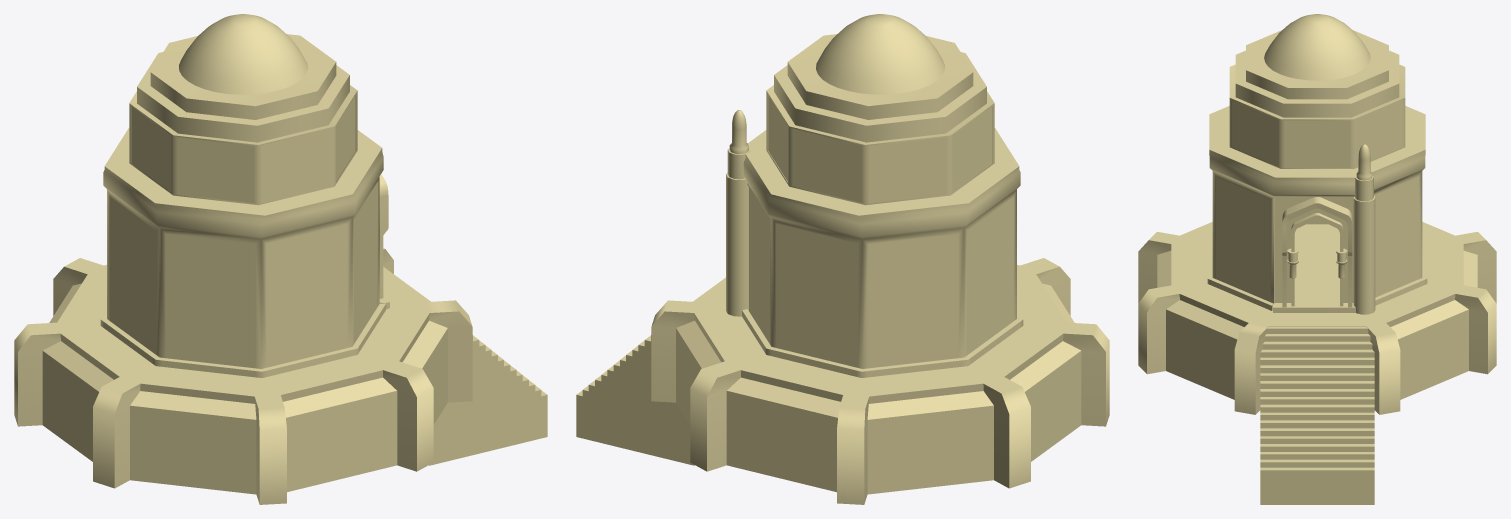
Rendered from Temple_Left_Low.fbx.
The picture shows the model from 3 angles, left to right: view 1: azimuth 30°, elevation 25°; view 2: azimuth 150°, elevation 25°; view 3: azimuth 270°, elevation 25°; orthographic projection. The views are drawn at different scales.
Parts seen in each view (by area): view 1: Temple_Left_Low, Base_Temple_Right_Low, Stairs_Left_Low, Door_Big_Low; view 2: Temple_Left_Low, Base_Temple_Right_Low, Stairs_Left_Low, Column_Temple_Left_Low; view 3: Temple_Left_Low, Base_Temple_Right_Low, Stairs_Left_Low, Door_Low, Column_Temple_Left_Low, Door_Big_Low, Door_small_Low.
Boxes of the visible parts, x1,y1,x2,y2 form: Temple_Left_Low: (100, 14, 386, 377); Base_Temple_Right_Low: (14, 248, 472, 504); Stairs_Left_Low: (383, 267, 547, 465); Door_Big_Low: (379, 174, 388, 298); Temple_Left_Low: (742, 14, 1023, 377); Base_Temple_Right_Low: (651, 258, 1109, 504); Stairs_Left_Low: (576, 277, 725, 465); Column_Temple_Left_Low: (726, 110, 750, 316); Temple_Left_Low: (1207, 14, 1427, 310); Base_Temple_Right_Low: (1138, 222, 1496, 414); Stairs_Left_Low: (1260, 326, 1374, 504); Door_Low: (1273, 196, 1355, 312); Column_Temple_Left_Low: (1353, 144, 1375, 314); Door_Big_Low: (1282, 197, 1352, 307); Door_small_Low: (1291, 213, 1343, 306).
Size of the model in its own units: 487 by 465 by 400.
